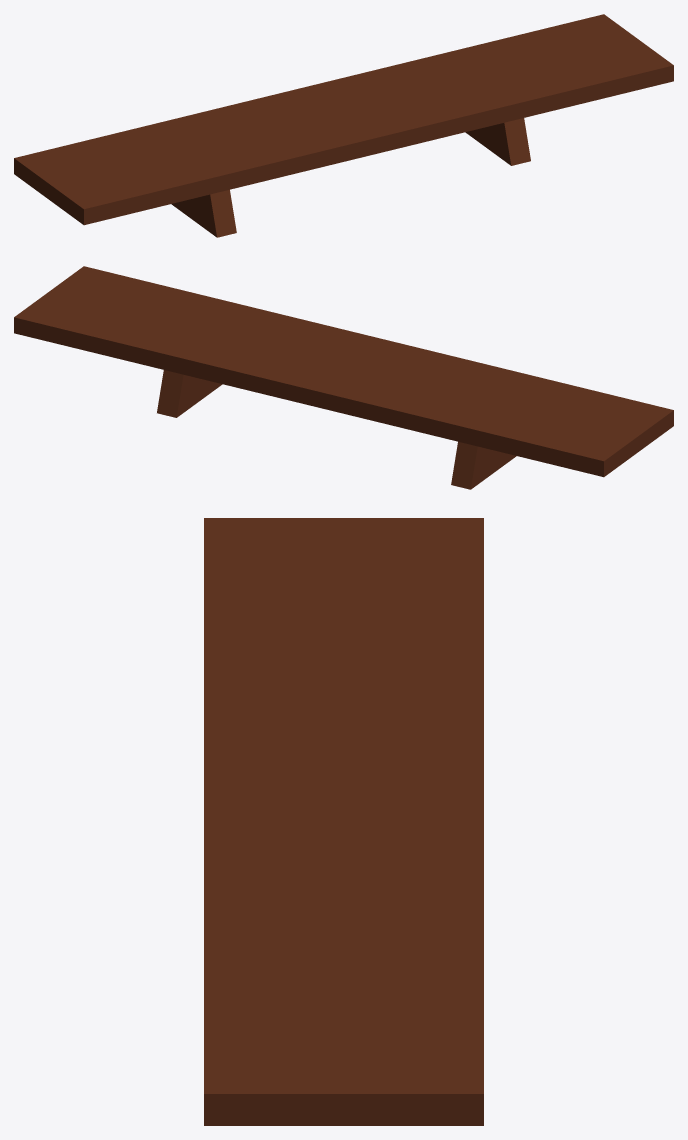
Rendered from Table Assessment.fbx.
3 views of the same model, one above another, from view 1: azimuth 30°, elevation 25°; view 2: azimuth 150°, elevation 25°; view 3: azimuth 270°, elevation 25° (orthographic). The views are drawn at different scales.
Parts seen in each view (by area): view 1: Cube; view 2: Cube; view 3: Cube.
Part boxes in pixels (<box>): Cube: <box>14,14,673,237</box>; Cube: <box>14,266,673,489</box>; Cube: <box>204,518,483,1125</box>.
Size of the model in its own units: 602 by 64.08 by 124.
